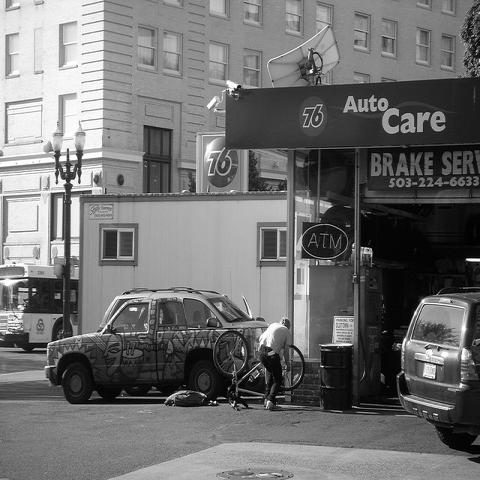bus: (0, 262, 82, 350)
car: (43, 295, 268, 406), (395, 291, 479, 447)
